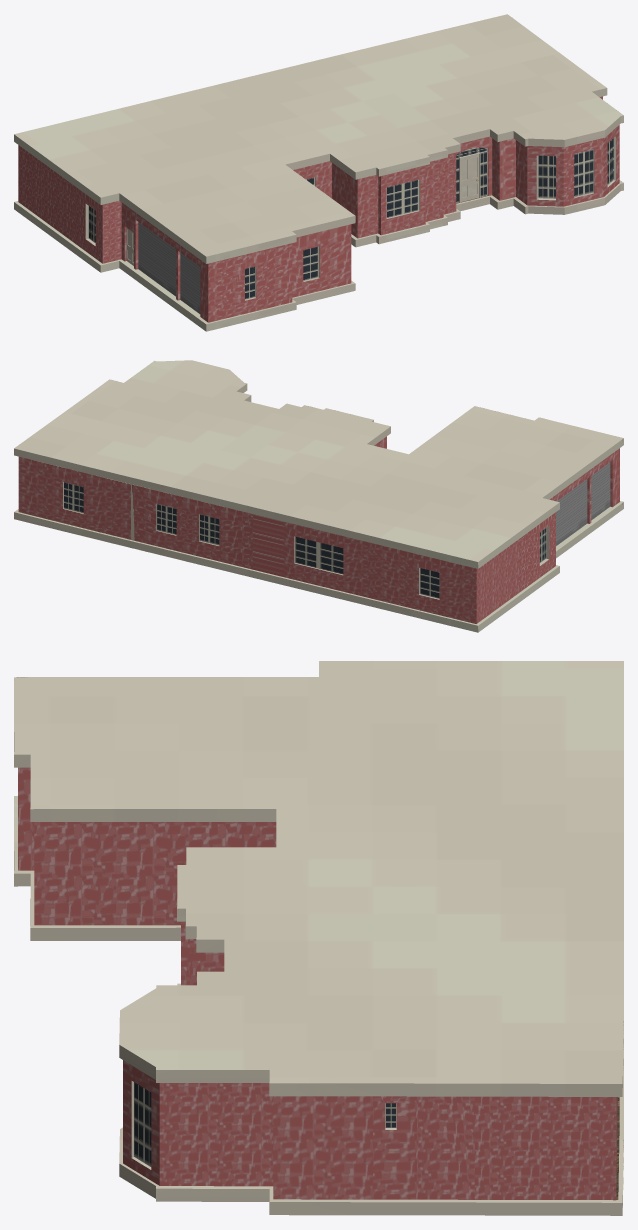
File: FV_CH1_HOUSE.glb
The picture shows the model from 3 angles, top to bottom: view 1: azimuth 30°, elevation 25°; view 2: azimuth 150°, elevation 25°; view 3: azimuth 270°, elevation 25°; orthographic projection. The views are drawn at different scales.
Parts seen in each view (by area): view 1: Roof, Walls, Floor; view 2: Roof, Walls, Floor; view 3: Roof, Walls, Floor.
Boxes of the visible parts, x1=… form: Roof: x1=14, y1=14, x2=623, y2=263; Walls: x1=18, y1=96, x2=619, y2=322; Floor: x1=14, y1=180, x2=623, y2=331; Roof: x1=14, y1=360, x2=623, y2=568; Walls: x1=18, y1=436, x2=619, y2=623; Floor: x1=14, y1=501, x2=623, y2=632; Roof: x1=14, y1=661, x2=623, y2=1096; Walls: x1=18, y1=767, x2=617, y2=1200; Floor: x1=14, y1=796, x2=623, y2=1215.
Size of the model in its own units: 67.45 by 9.81 by 41.12.
120 materials, 95 textured.
